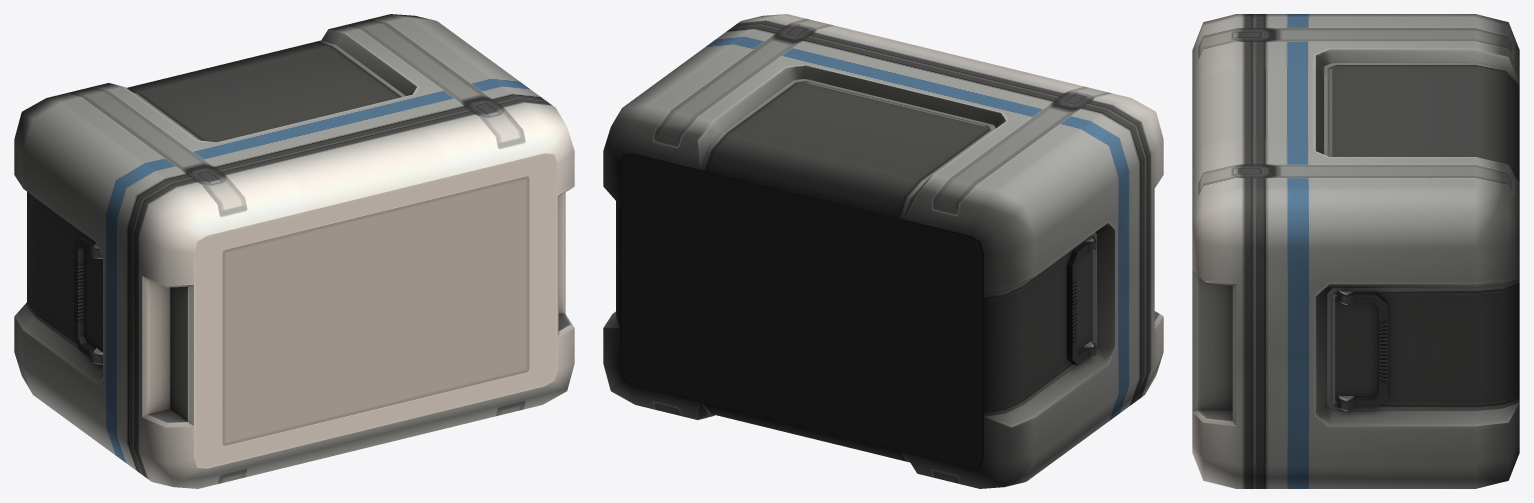
The model's file is crate_long.obj.
The picture shows the model from 3 angles, left to right: view 1: azimuth 30°, elevation 25°; view 2: azimuth 150°, elevation 25°; view 3: azimuth 270°, elevation 25°; orthographic projection.
Parts seen in each view (by area): view 1: Crate_Long_Lid, Crate_Long; view 2: Crate_Long, Crate_Long_Lid; view 3: Crate_Long, Crate_Long_Lid.
Part boxes in pixels (x1=…): Crate_Long_Lid: x1=134, y1=99, x2=574, y2=488; Crate_Long: x1=14, y1=14, x2=547, y2=475; Crate_Long: x1=603, y1=23, x2=1146, y2=488; Crate_Long_Lid: x1=733, y1=14, x2=1163, y2=400; Crate_Long: x1=1252, y1=14, x2=1519, y2=488; Crate_Long_Lid: x1=1192, y1=14, x2=1252, y2=488.
Bounding box in the file's own units: 36 × 24 × 24.
